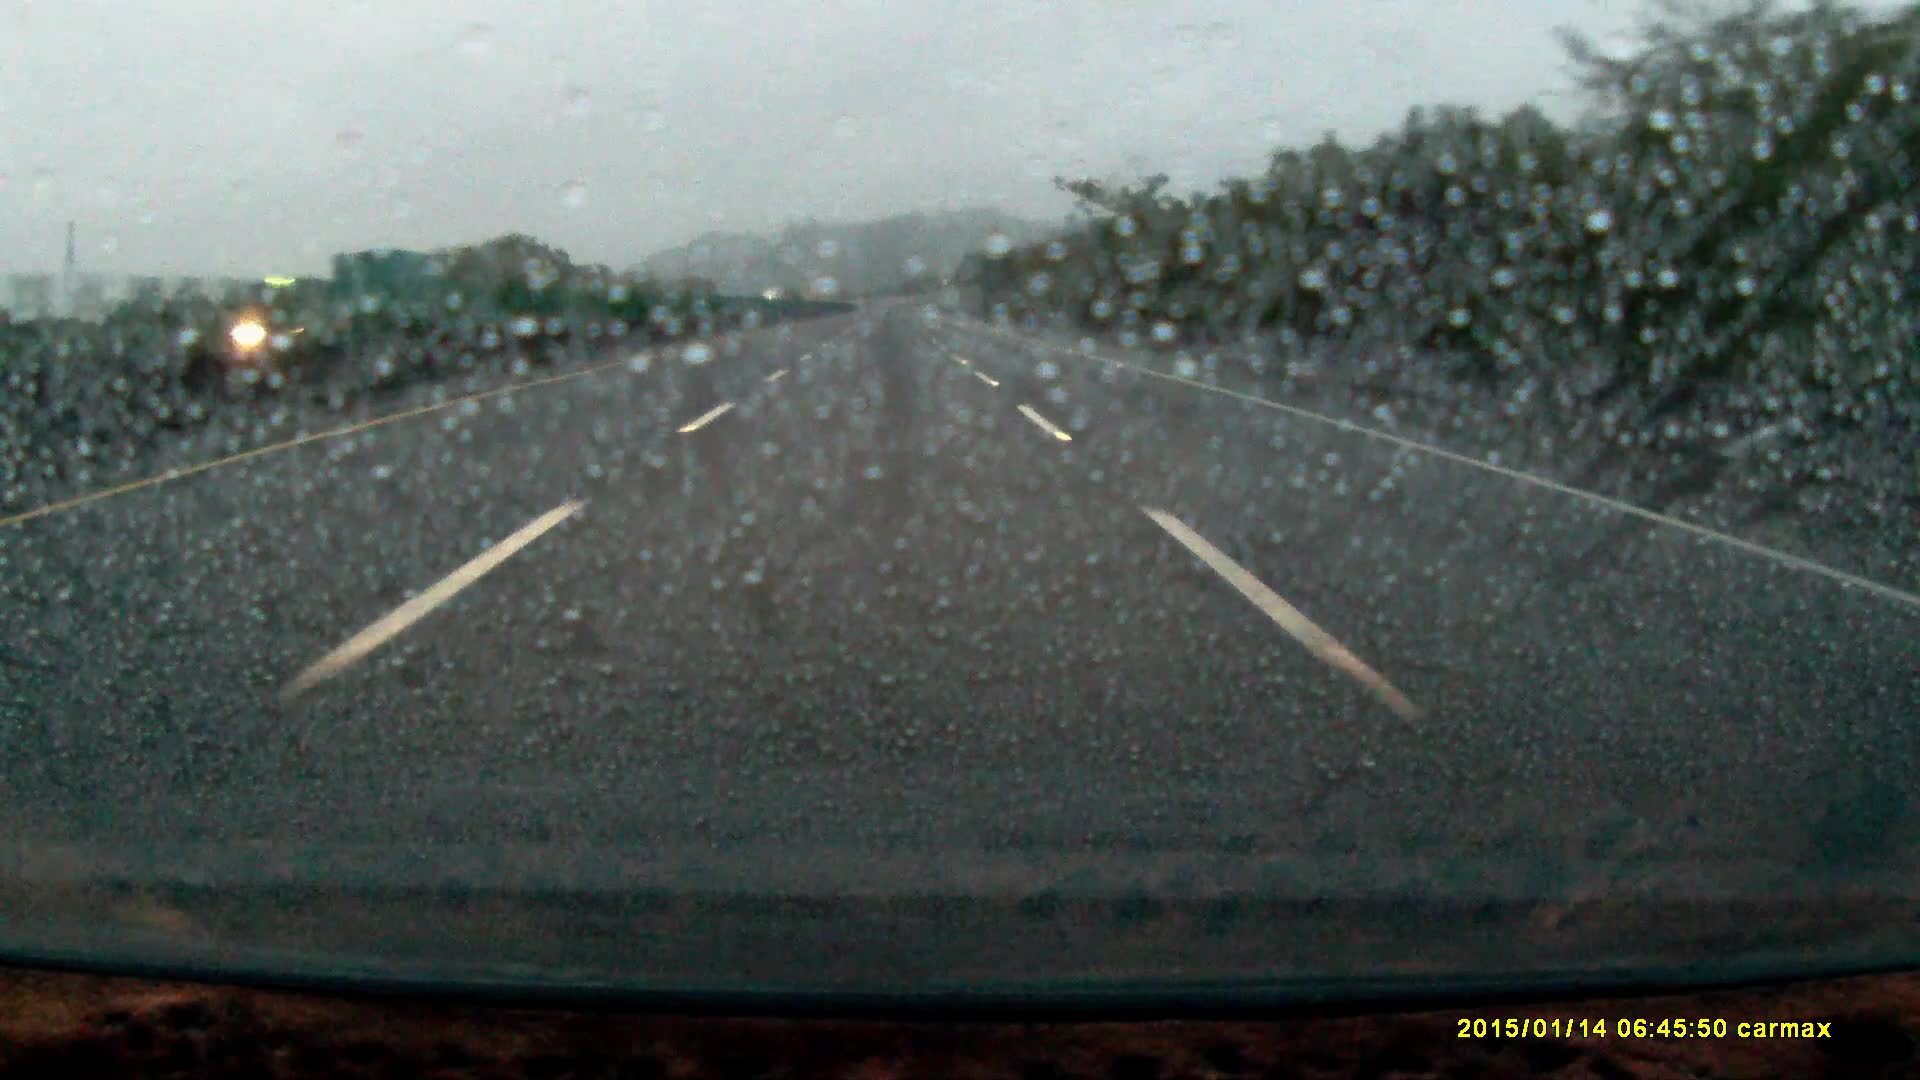vehicle: (218, 247, 443, 356)
